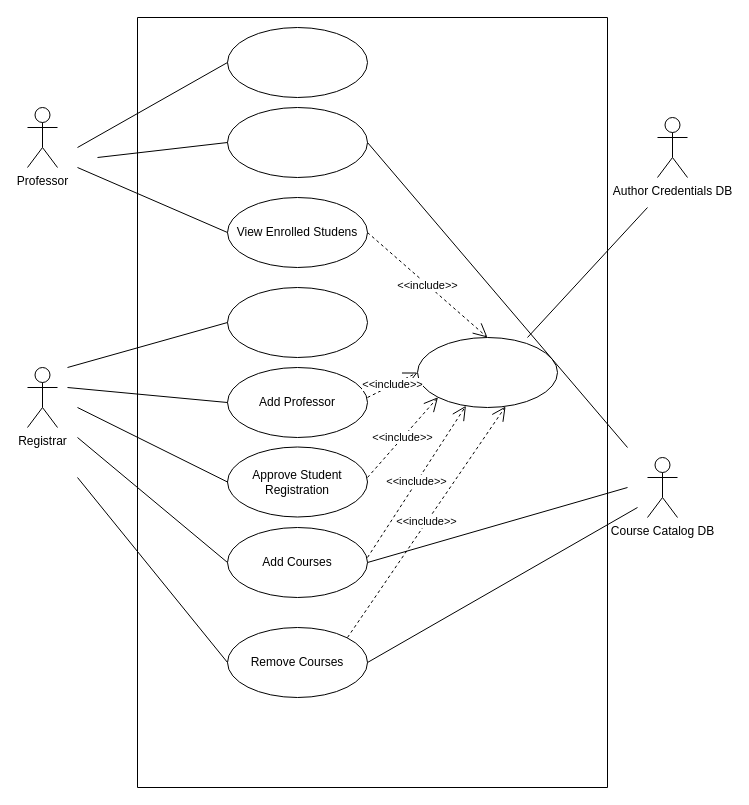
Image size: 749x805. Some labels were removed from this diagram. Each missing label, with the box of its shape:
Add Grades: (226, 26, 368, 98)
Generate Report Card: (226, 286, 368, 358)
Verify Credentials: (416, 336, 558, 408)
View Courses: (226, 106, 368, 178)
